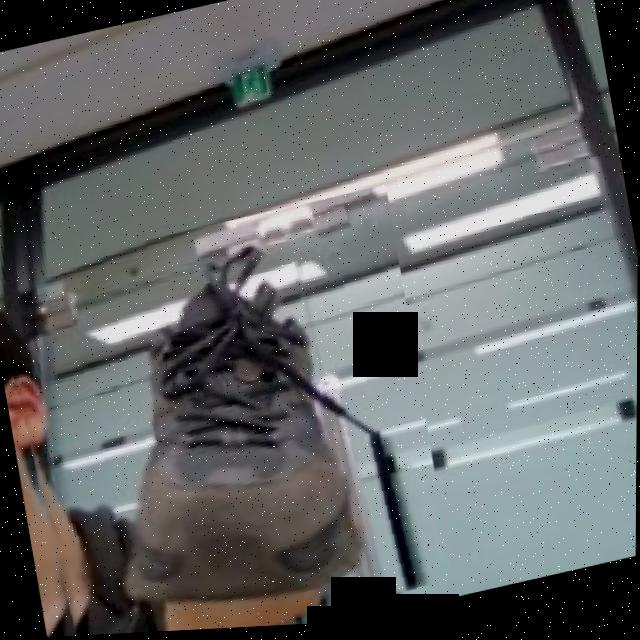shoe: (0, 186, 457, 640)
